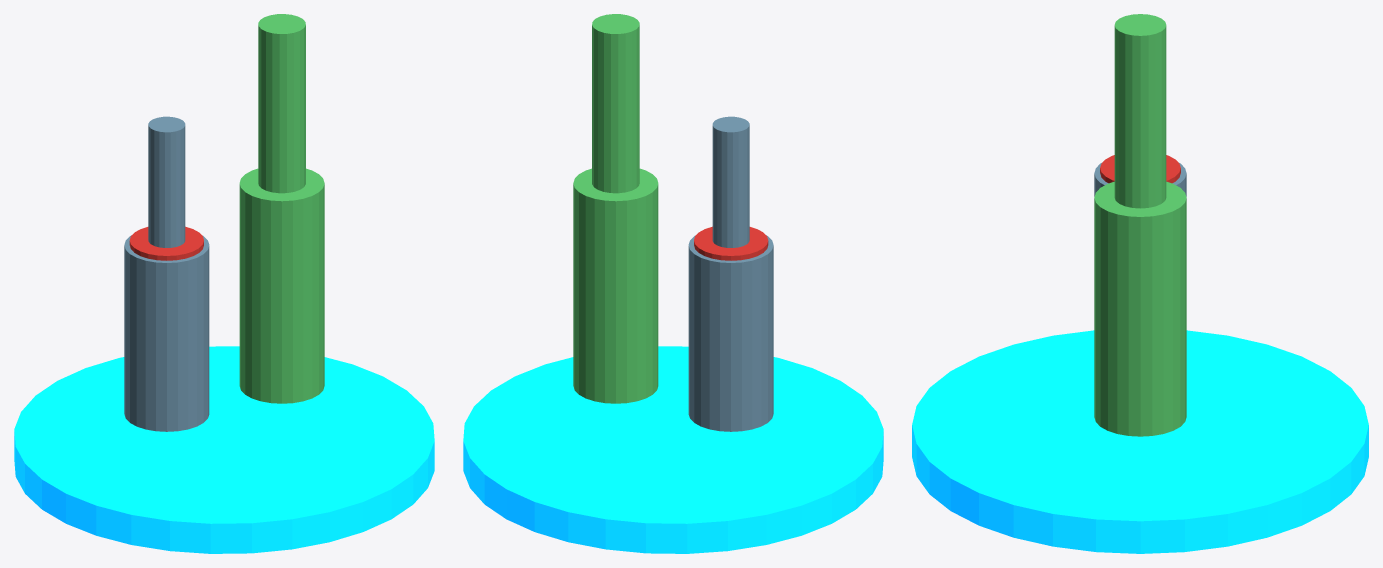
File: french_wine.glb
3 views of the same model, side by side, from view 1: azimuth 30°, elevation 25°; view 2: azimuth 150°, elevation 25°; view 3: azimuth 270°, elevation 25° (orthographic). The views are drawn at different scales.
Visible parts, largest first — view 1: 10_07_Popular_French_Wine_ROOT_base, 10_07_Popular_French_Wine_part_01, 10_07_Popular_French_Wine_part_03, 10_07_Popular_French_Wine_part_02, 10_07_Popular_French_Wine_part_04, 10_07_Popular_French_Wine_part_05; view 2: 10_07_Popular_French_Wine_ROOT_base, 10_07_Popular_French_Wine_part_01, 10_07_Popular_French_Wine_part_03, 10_07_Popular_French_Wine_part_02, 10_07_Popular_French_Wine_part_04, 10_07_Popular_French_Wine_part_05; view 3: 10_07_Popular_French_Wine_ROOT_base, 10_07_Popular_French_Wine_part_01, 10_07_Popular_French_Wine_part_02, 10_07_Popular_French_Wine_part_05.
Part boxes in pixels (x1,y1,x2,y2): 10_07_Popular_French_Wine_ROOT_base: (14, 346, 434, 553); 10_07_Popular_French_Wine_part_01: (239, 168, 324, 403); 10_07_Popular_French_Wine_part_03: (124, 235, 209, 431); 10_07_Popular_French_Wine_part_02: (258, 14, 305, 193); 10_07_Popular_French_Wine_part_04: (148, 116, 185, 247); 10_07_Popular_French_Wine_part_05: (129, 226, 203, 260); 10_07_Popular_French_Wine_ROOT_base: (463, 346, 883, 553); 10_07_Popular_French_Wine_part_01: (573, 168, 658, 403); 10_07_Popular_French_Wine_part_03: (688, 235, 773, 431); 10_07_Popular_French_Wine_part_02: (592, 14, 639, 193); 10_07_Popular_French_Wine_part_04: (712, 116, 749, 247); 10_07_Popular_French_Wine_part_05: (694, 226, 768, 260); 10_07_Popular_French_Wine_ROOT_base: (912, 330, 1368, 553); 10_07_Popular_French_Wine_part_01: (1094, 181, 1186, 436); 10_07_Popular_French_Wine_part_02: (1114, 14, 1166, 208); 10_07_Popular_French_Wine_part_05: (1100, 155, 1180, 183).
Size of the model in its own units: 0.76 by 0.85 by 0.76.
